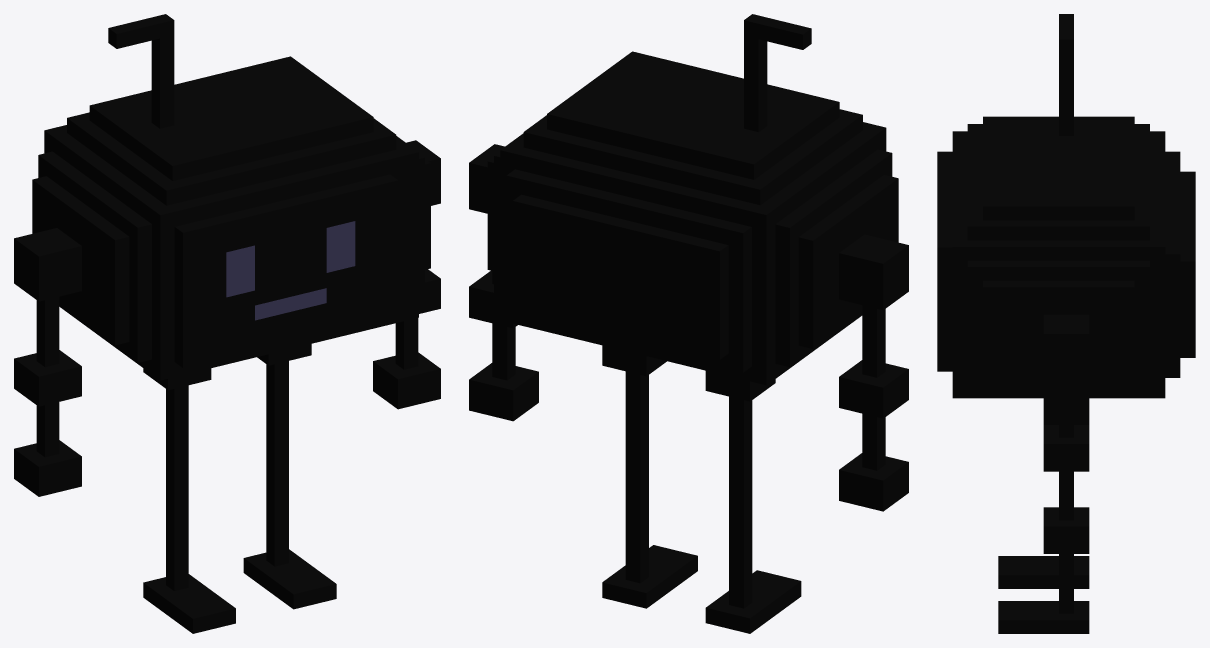
The model's file is Robot1.obj.
3 views of the same model, side by side, from view 1: azimuth 30°, elevation 25°; view 2: azimuth 150°, elevation 25°; view 3: azimuth 270°, elevation 25° (orthographic). The views are drawn at different scales.
Bounding box in the file's own units: 2.8 × 3.9 × 1.7.
